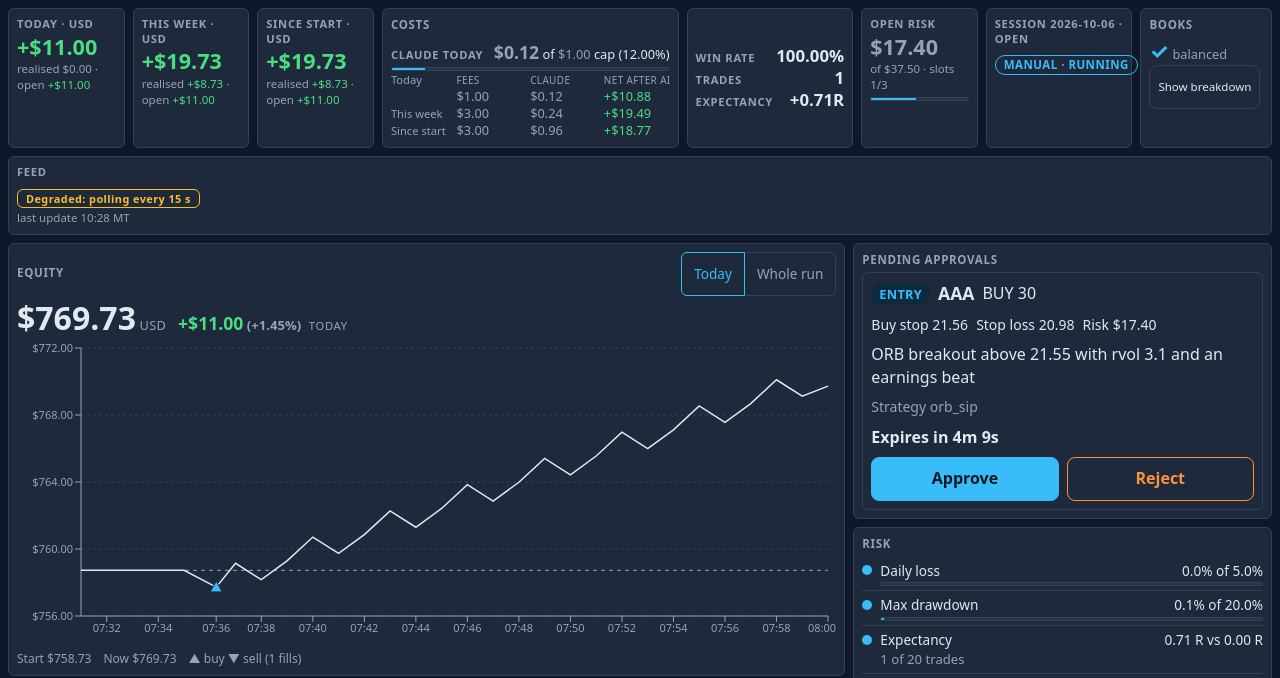
Test: decisions › an approval blocked by the kill switch keeps showing the reason after the dashboard refetches
This screenshot has width=1280, height=678.
Click the button "Approve" at (965, 479), box top-left (871, 457), bottom-right (1059, 501)
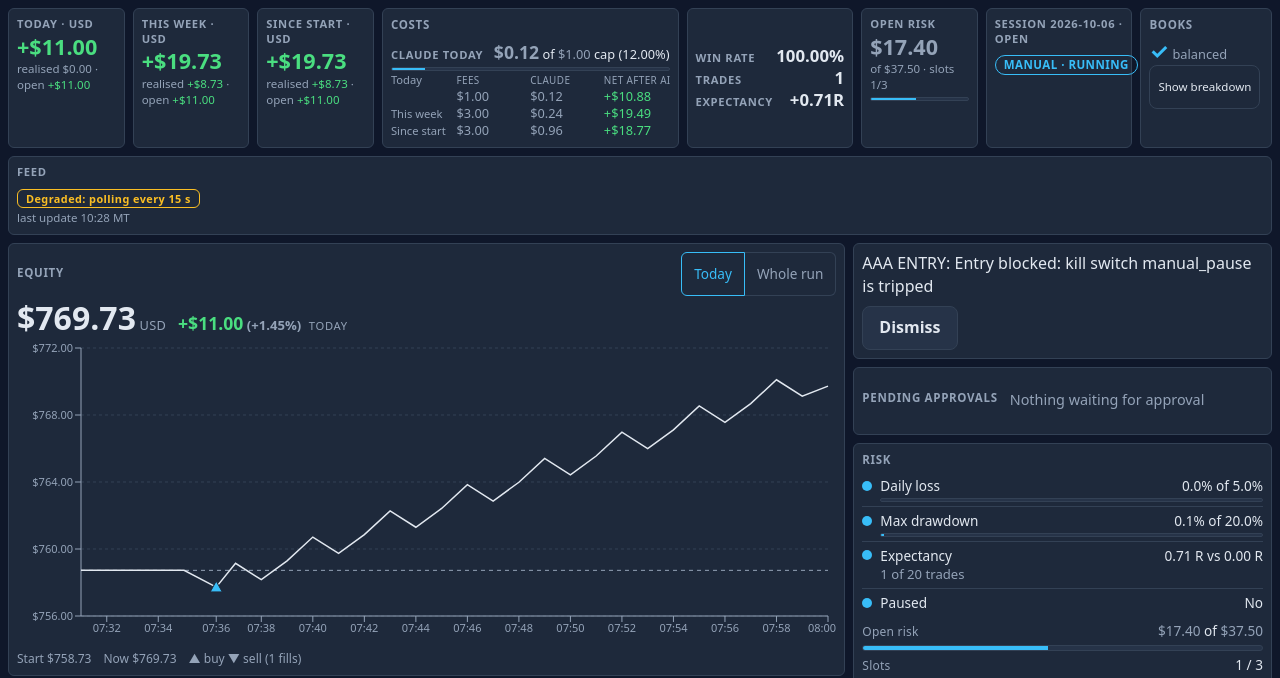
Check: the list named "Decisions" shows "AAA ENTRY: Entry blocked: kill switch manual_pause is tripped", box top-left (862, 252), bottom-right (1252, 297)
